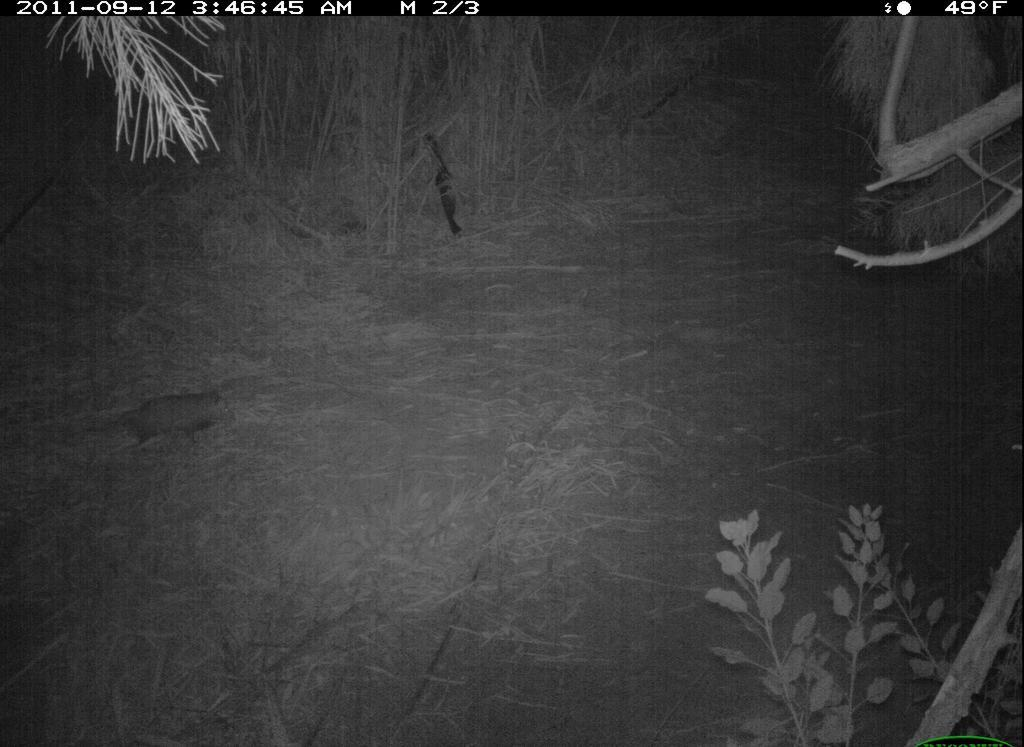opossum: (81, 383, 253, 459)
